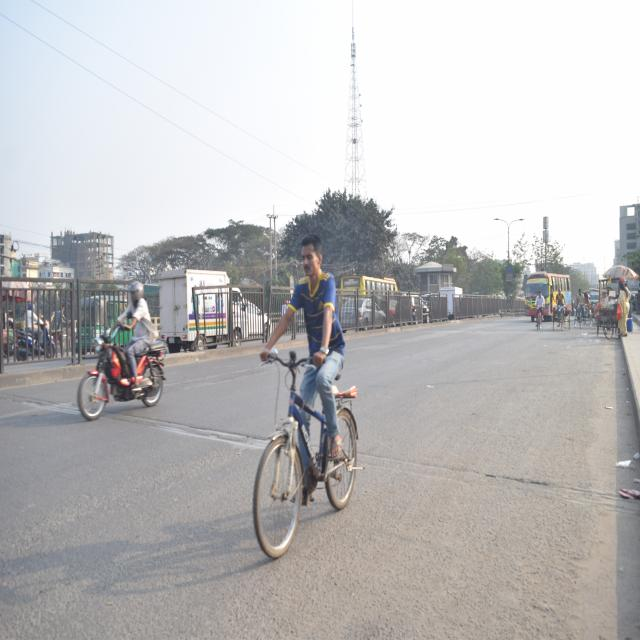bus: (521, 271, 573, 323)
motorbike: (66, 318, 172, 424)
